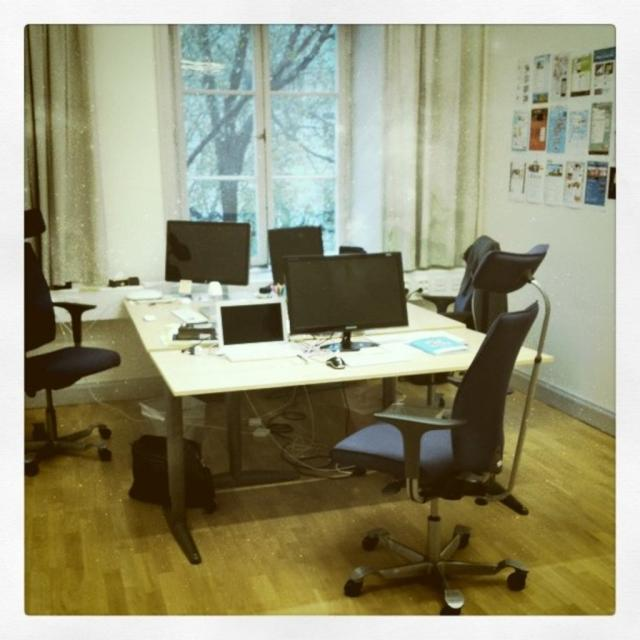chair: (333, 302, 538, 608), (24, 242, 121, 474)
desk: (103, 284, 514, 560)
laptop: (217, 298, 307, 363)
mouse: (326, 356, 347, 368)
tv: (284, 252, 409, 337), (165, 220, 252, 288)
